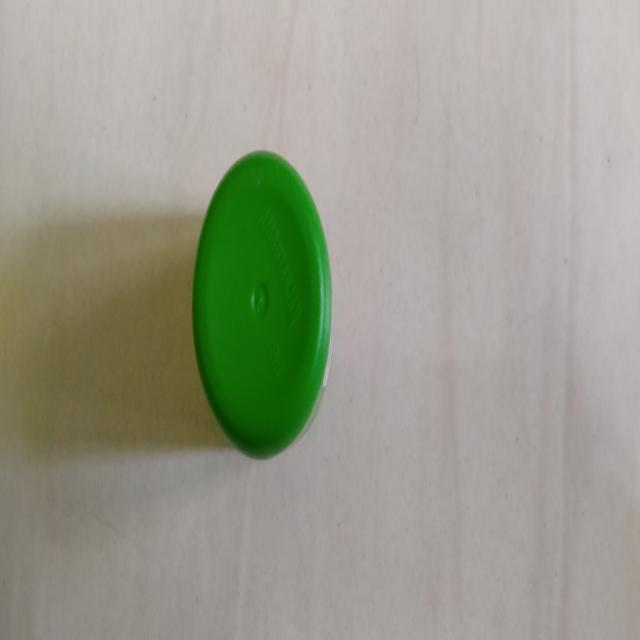eucalyptus oil: (189, 159, 329, 452)
